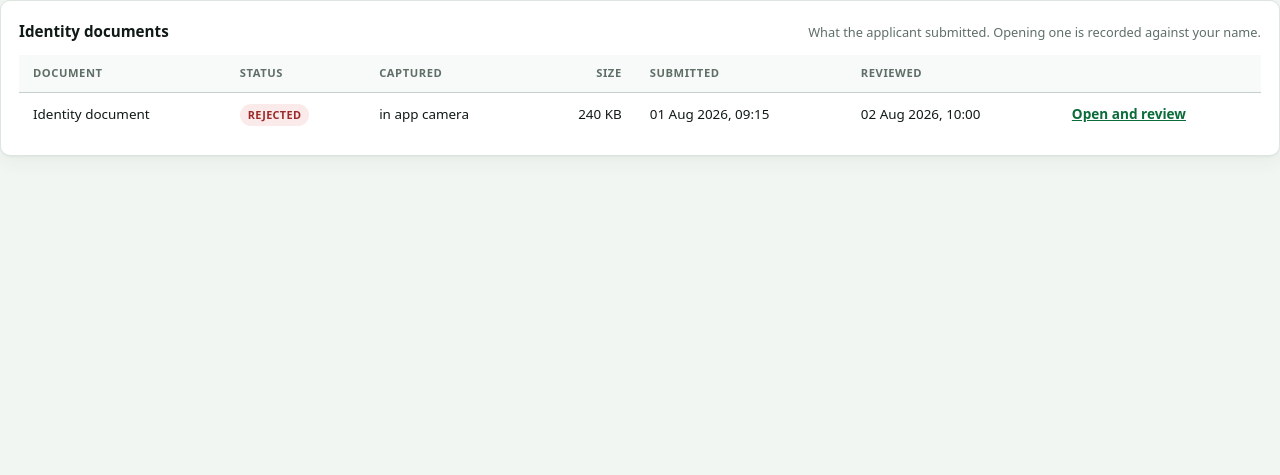
deciding on a document › offers no decision on a document somebody has already decided
This screenshot has width=1280, height=475.
Step 1. Click the button "Open and review" → (1129, 114), box top-left (1072, 104), bottom-right (1186, 124)
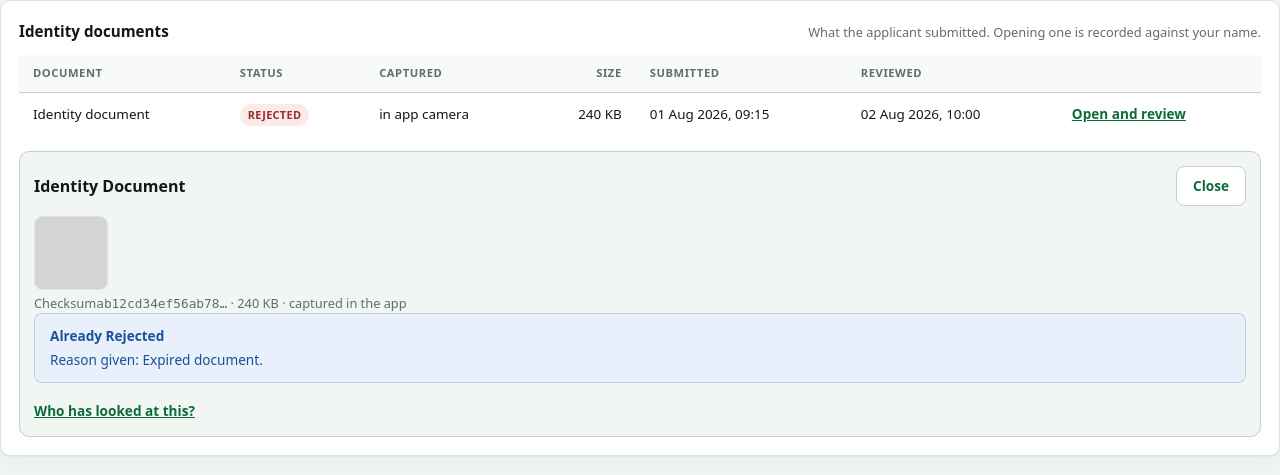
Now the text "Reason given: Expired document." is shown, box top-left (50, 350), bottom-right (263, 369)
